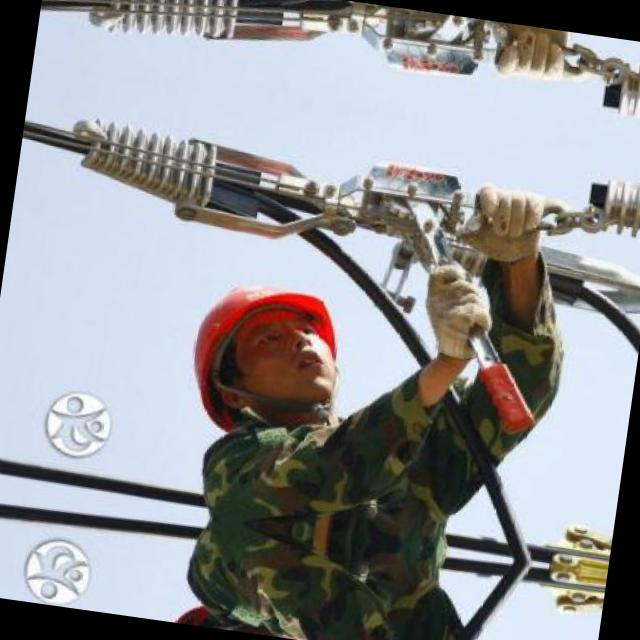helmet: (175, 253, 372, 439)
